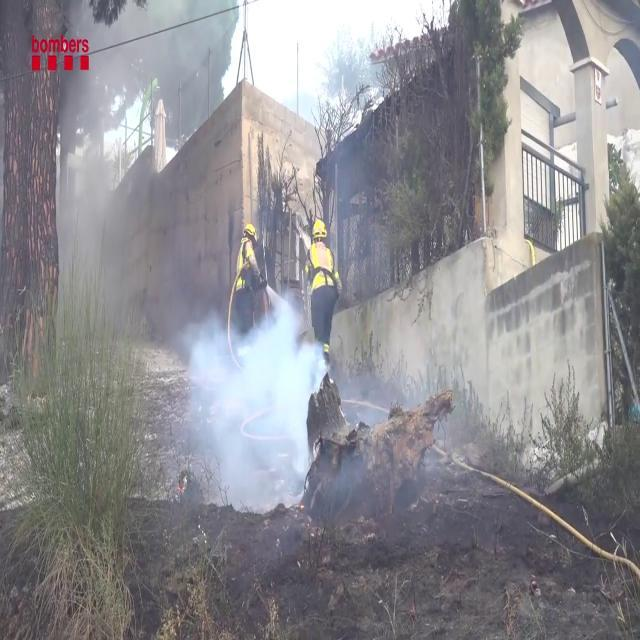Smoke: (182, 270, 318, 510)
